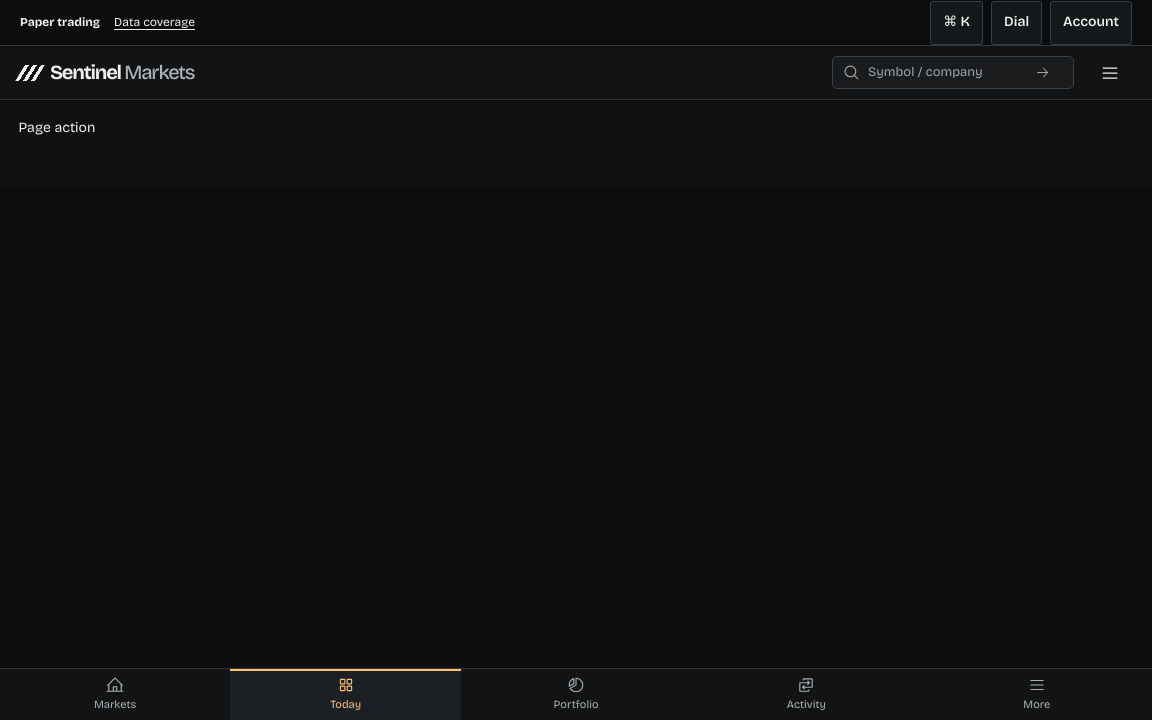
Test: mobile shell › opens a named modal, exposes expanded state, and closes on cancel and close
Later steps or results of the test are not shown.
expect the navigation bar named "Workspace" is shown: met, box [0,668,1151,719]
Click the button named "Open navigation". click: (1110, 72)
box: [1088,50,1132,94]
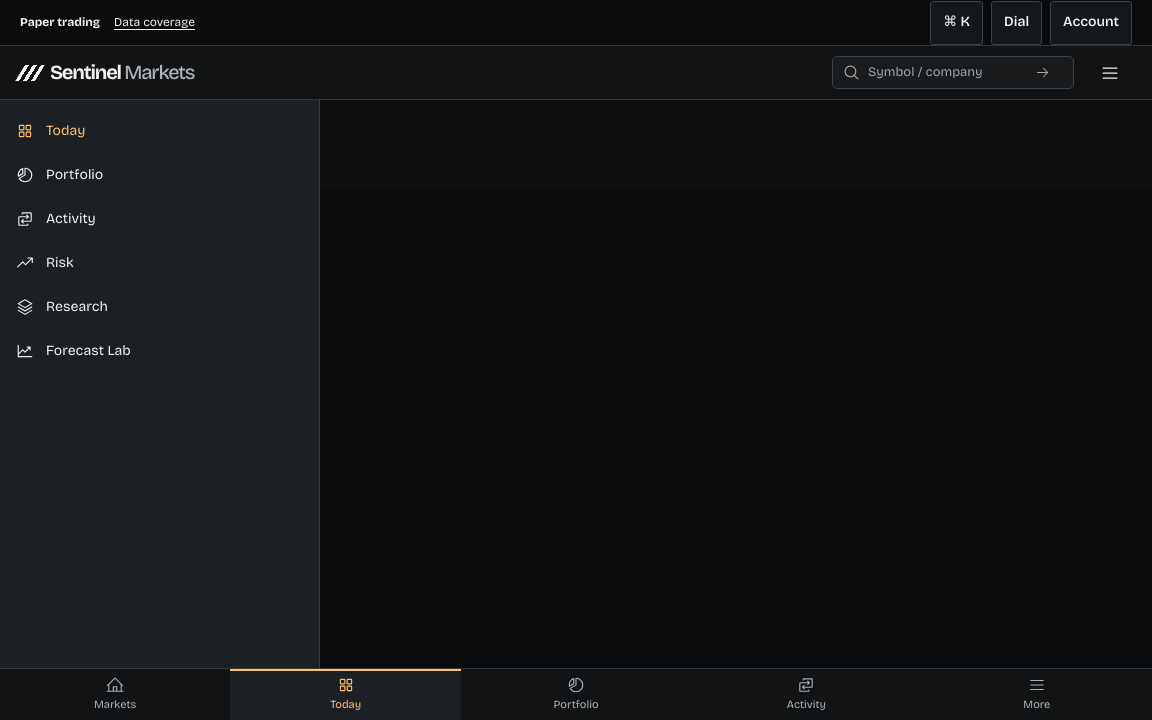
expect the text "Paper trading" is shown: met, box [16,678,105,695]
expect the 1st link "Activity" is shown: met, box [16,210,96,228]
